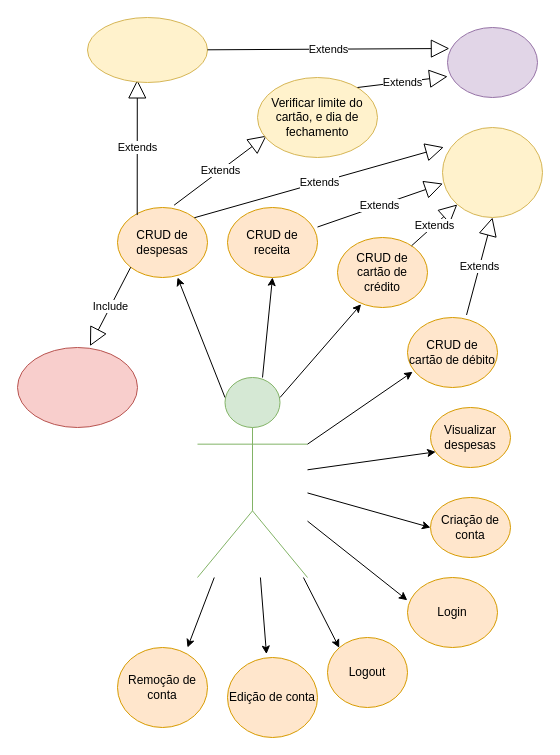
This 560x755 diagram has some shape labels left out. Here are the shapes that lost their labels. From the top down, the centre of each, then its label:
At [147,49]: "Verificar se existe saldo".
At [492,62]: "Notificar usuário".
At [492,172]: "Filtrar itens".
At [77,387]: "Selecionar categoria".
At [252,477]: "Usuário".
